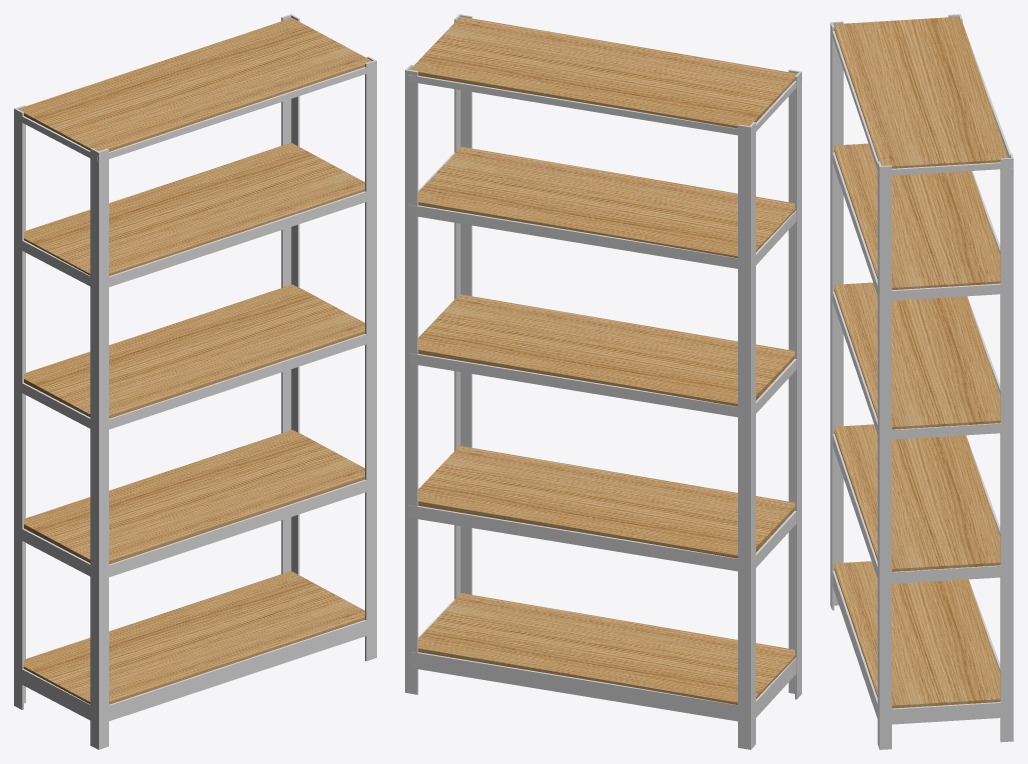
The model's file is shelf1.glb.
3 views of the same model, side by side, from view 1: azimuth 30°, elevation 25°; view 2: azimuth 150°, elevation 25°; view 3: azimuth 270°, elevation 25° (orthographic). The views are drawn at different scales.
Visible parts, largest first — view 1: Cube.002, Cube.004, Cube.007, Cube.006, Cube.008, Cube.005, Cube.001, Cube, Cube.003; view 2: Cube, Cube.004, Cube.007, Cube.006, Cube.008, Cube.005, Cube.003, Cube.001, Cube.002; view 3: Cube.002, Cube.004, Cube.007, Cube.006, Cube.008, Cube.005, Cube.003, Cube.001, Cube.
Part boxes in pixels (box(x1,y1,x2,y2)): Cube.002: box(109, 56, 376, 721); Cube.004: box(19, 18, 371, 151); Cube.007: box(24, 430, 364, 564); Cube.006: box(24, 284, 364, 418); Cube.008: box(23, 571, 364, 704); Cube.005: box(24, 143, 364, 275); Cube.001: box(90, 148, 108, 749); Cube: box(14, 21, 281, 719); Cube.003: box(281, 14, 299, 574); Cube: box(408, 75, 796, 749); Cube.004: box(410, 16, 796, 128); Cube.007: box(418, 446, 794, 558); Cube.006: box(418, 294, 794, 406); Cube.008: box(418, 593, 795, 704); Cube.005: box(418, 146, 795, 258); Cube.003: box(405, 64, 418, 694); Cube.001: box(788, 69, 801, 699); Cube.002: box(413, 14, 472, 637); Cube.002: box(832, 31, 1000, 749); Cube.004: box(833, 16, 1008, 168); Cube.007: box(834, 424, 1000, 571); Cube.006: box(834, 282, 1000, 429); Cube.008: box(834, 561, 1000, 708); Cube.005: box(834, 143, 1000, 289); Cube.003: box(1000, 153, 1013, 742); Cube.001: box(830, 21, 843, 610); Cube: box(948, 14, 1010, 671).
Bounding box in the file's own units: 1.04 × 1.85 × 0.5267.
3 materials, 1 textured.
